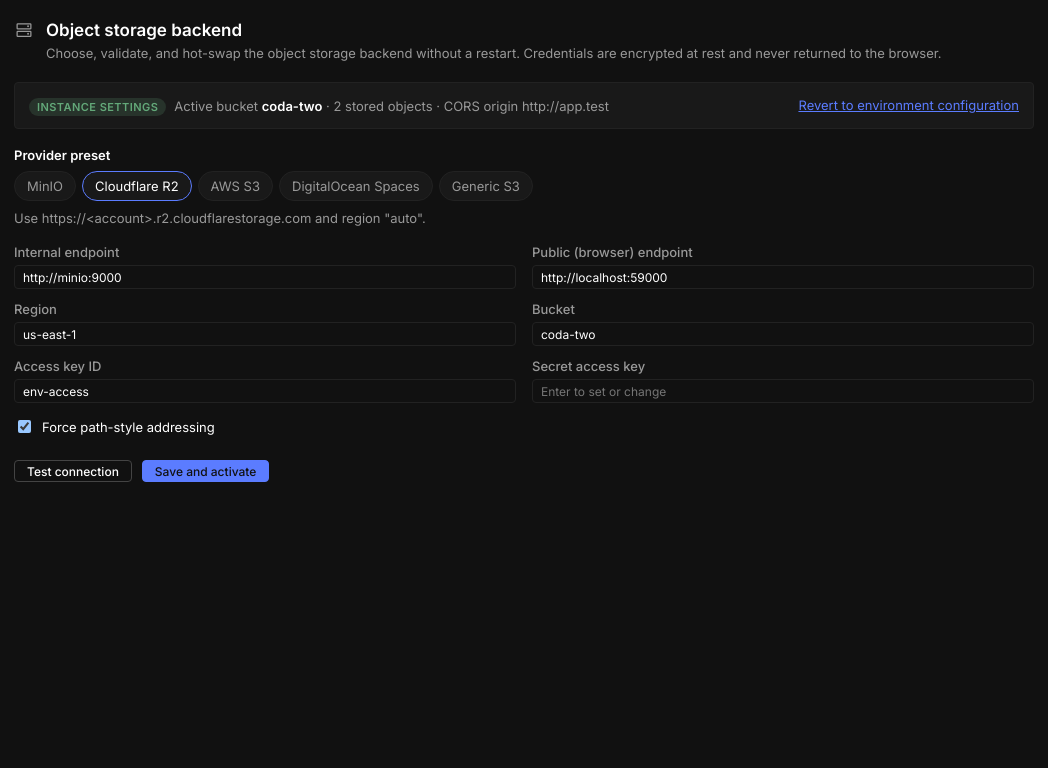
it: StorageSection › surfaces a revert failure
Click the button "Revert to environment configuration". click: (909, 105)
box: [798, 97, 1019, 113]
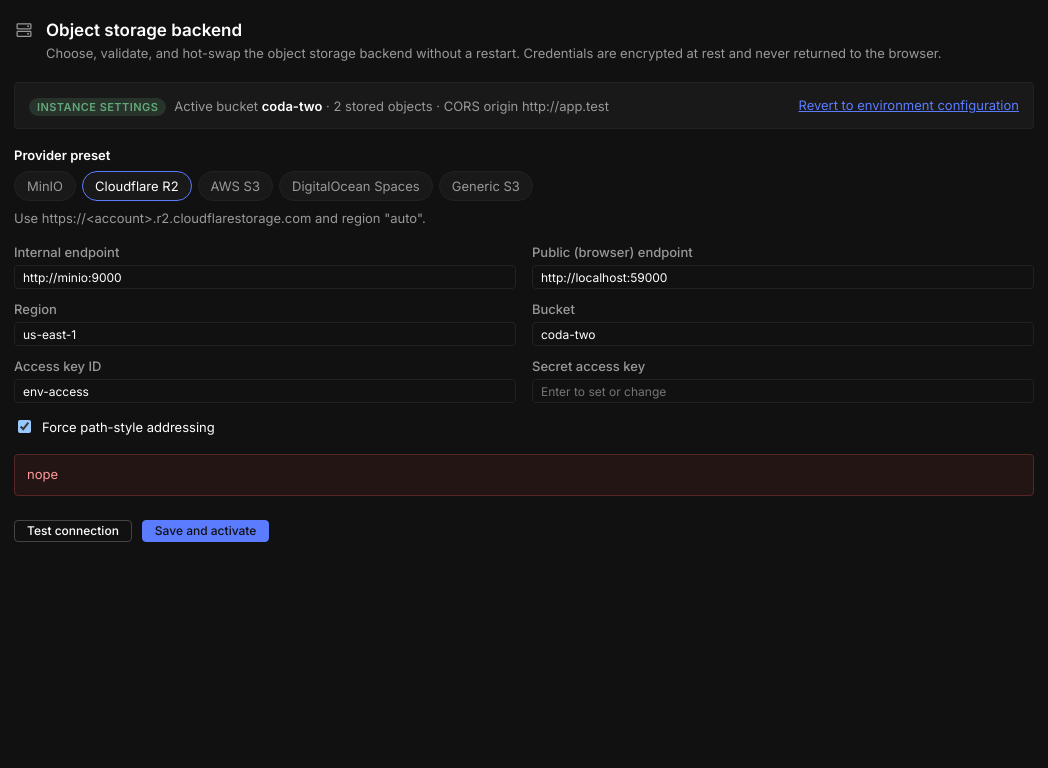
Expected: the text "nope" is shown, [14, 454, 1034, 496]
